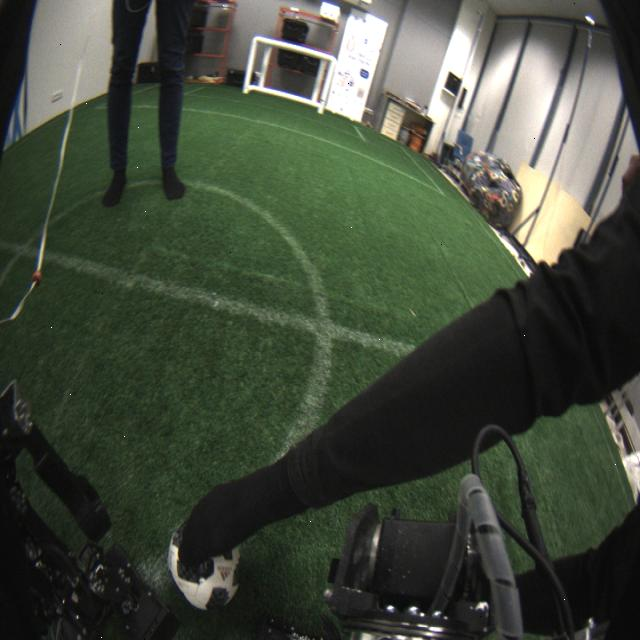ball: (169, 518, 244, 609)
goalpost: (316, 56, 338, 115), (241, 34, 259, 92)
